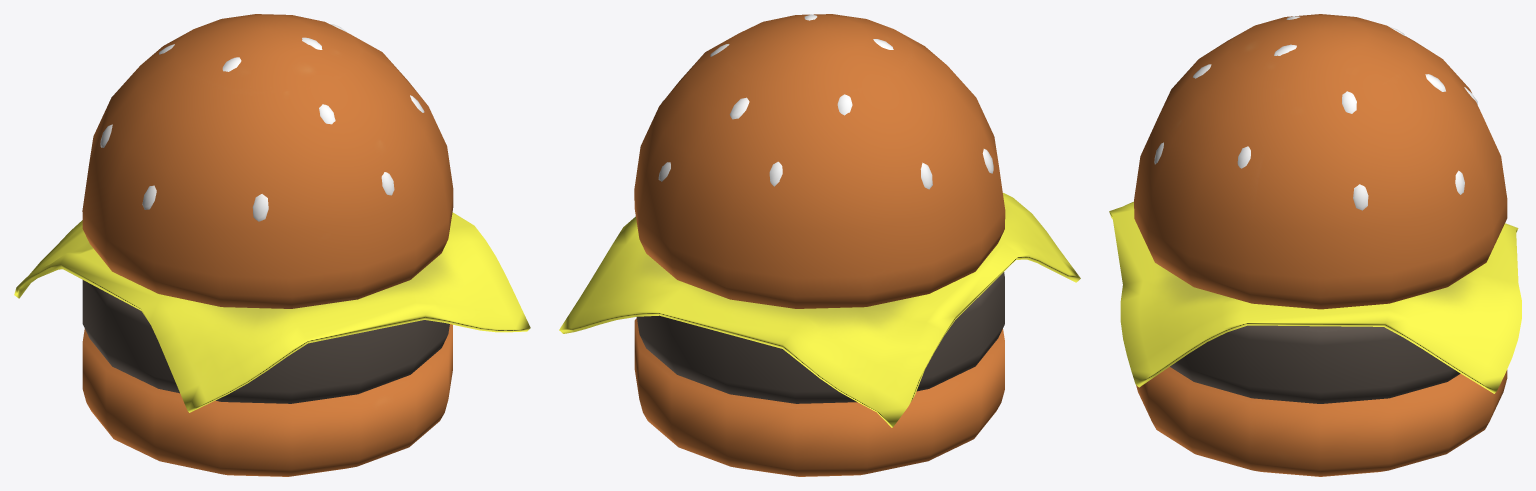
Rendered from burger.fbx.
3 views of the same model, side by side, from view 1: azimuth 30°, elevation 25°; view 2: azimuth 150°, elevation 25°; view 3: azimuth 270°, elevation 25° (orthographic).
Parts seen in each view (by area): view 1: pSphere2, pCube1, pCylinder1, pCylinder2; view 2: pSphere2, pCube1, pCylinder1, pCylinder2; view 3: pSphere2, pCube1, pCylinder1, pCylinder2.
Boxes of the visible parts, bbox=[...] form: pSphere2: bbox=[82, 14, 453, 308]; pCube1: bbox=[14, 212, 530, 412]; pCylinder1: bbox=[82, 324, 452, 476]; pCylinder2: bbox=[82, 280, 449, 403]; pSphere2: bbox=[634, 14, 1005, 308]; pCube1: bbox=[559, 193, 1080, 427]; pCylinder1: bbox=[634, 318, 1004, 476]; pCylinder2: bbox=[636, 272, 1004, 403]; pSphere2: bbox=[1134, 14, 1507, 309]; pCube1: bbox=[1109, 201, 1521, 393]; pCylinder1: bbox=[1136, 366, 1507, 476]; pCylinder2: bbox=[1170, 325, 1460, 403].
Size of the model in its own units: 8.51 by 9.01 by 8.86.
